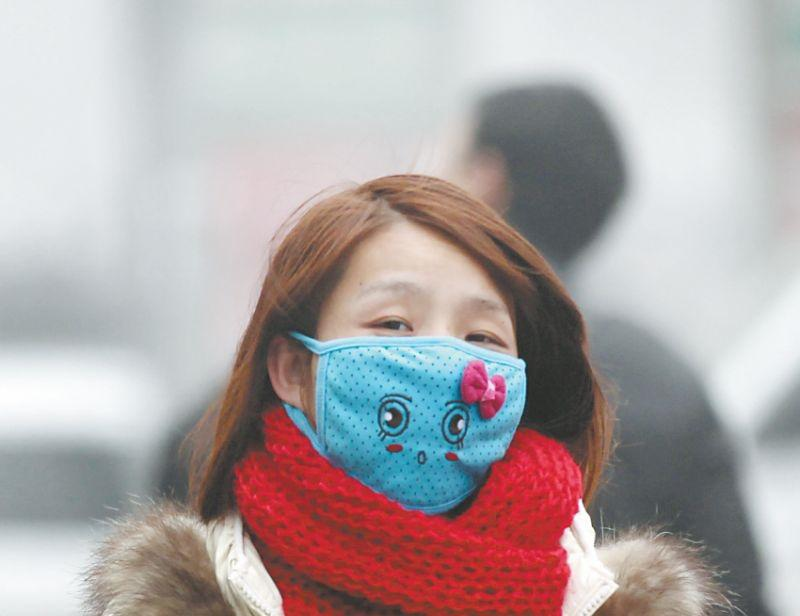OK: (306, 280, 522, 492)
